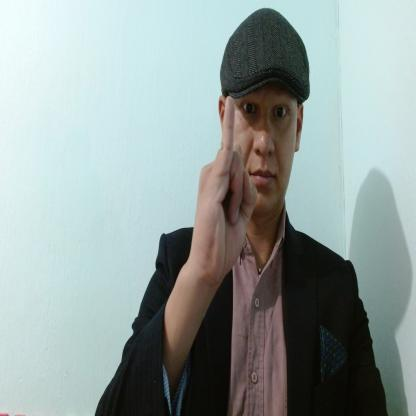I: (190, 94, 257, 284)
